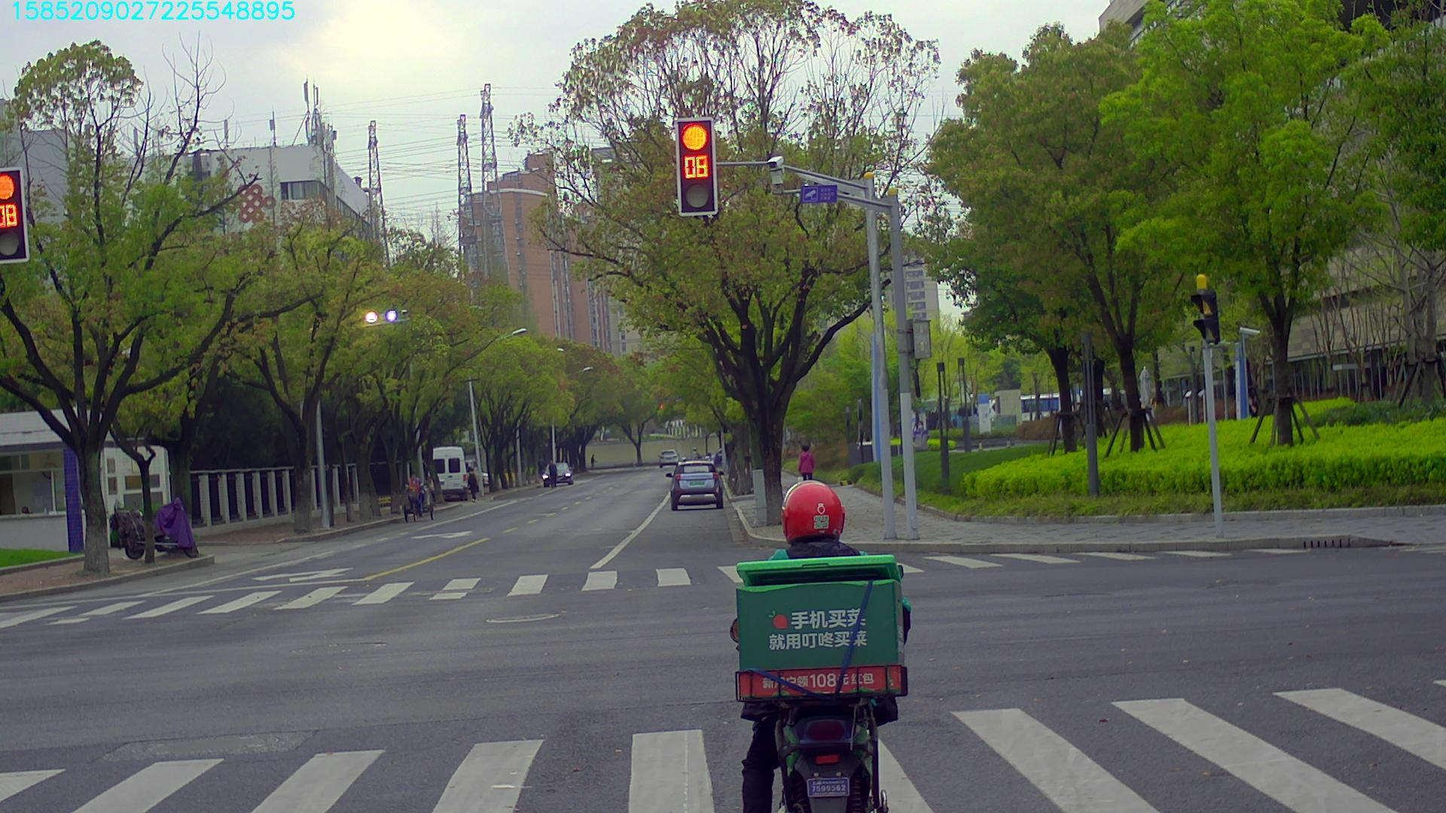red: (677, 119, 714, 212), (0, 166, 24, 259)
